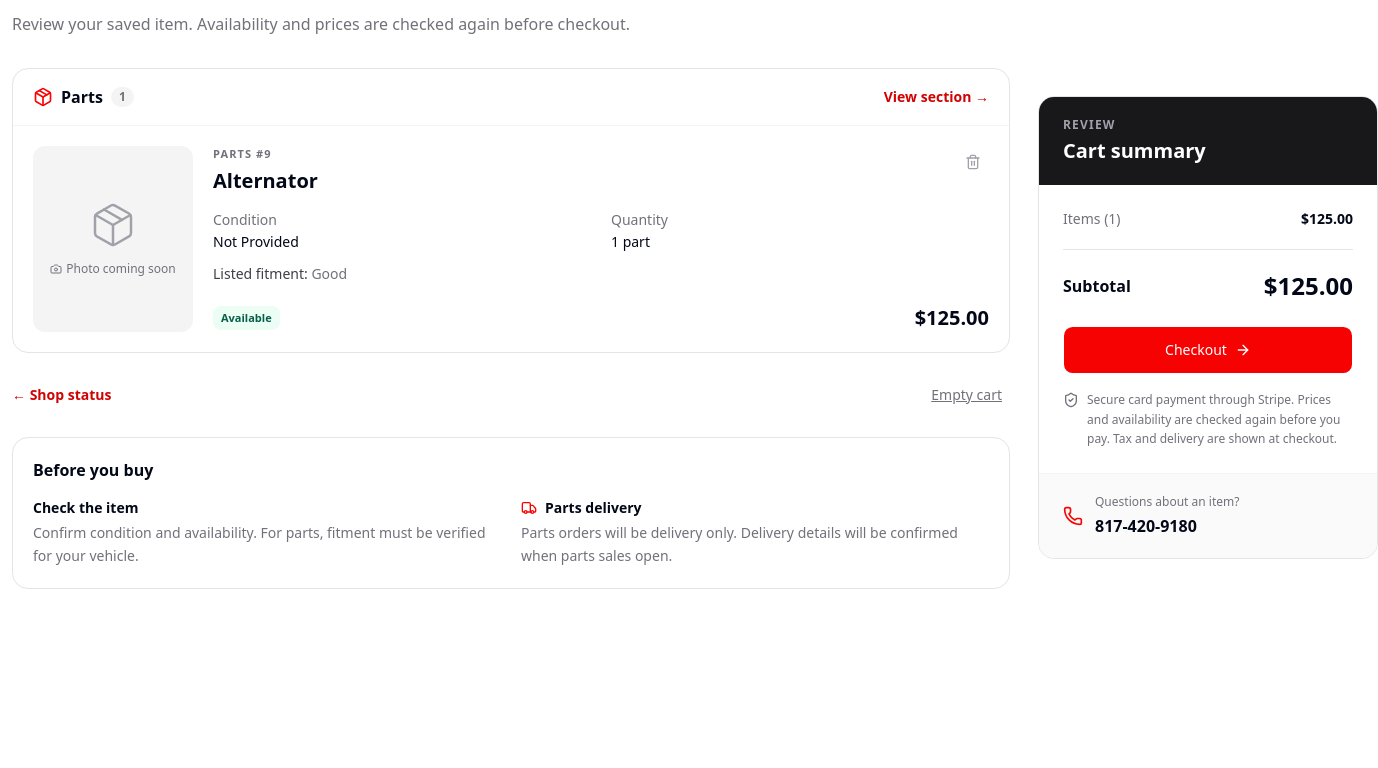
a non-Stripe address from the proxy is refused and shown as an error
Click the button "Checkout": (1208, 350) [1063,326,1353,374]
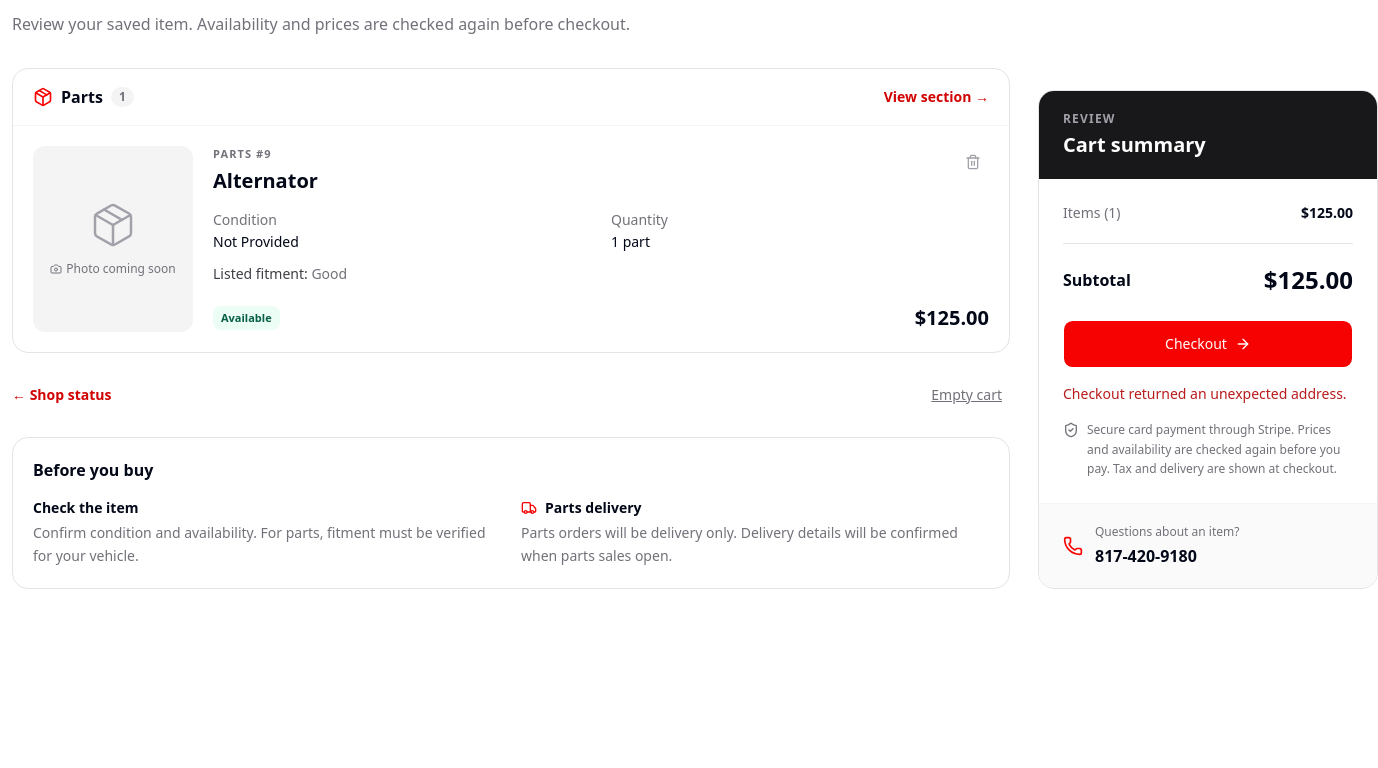
Now the message shows "unexpected address", box [1063,384,1347,403]
